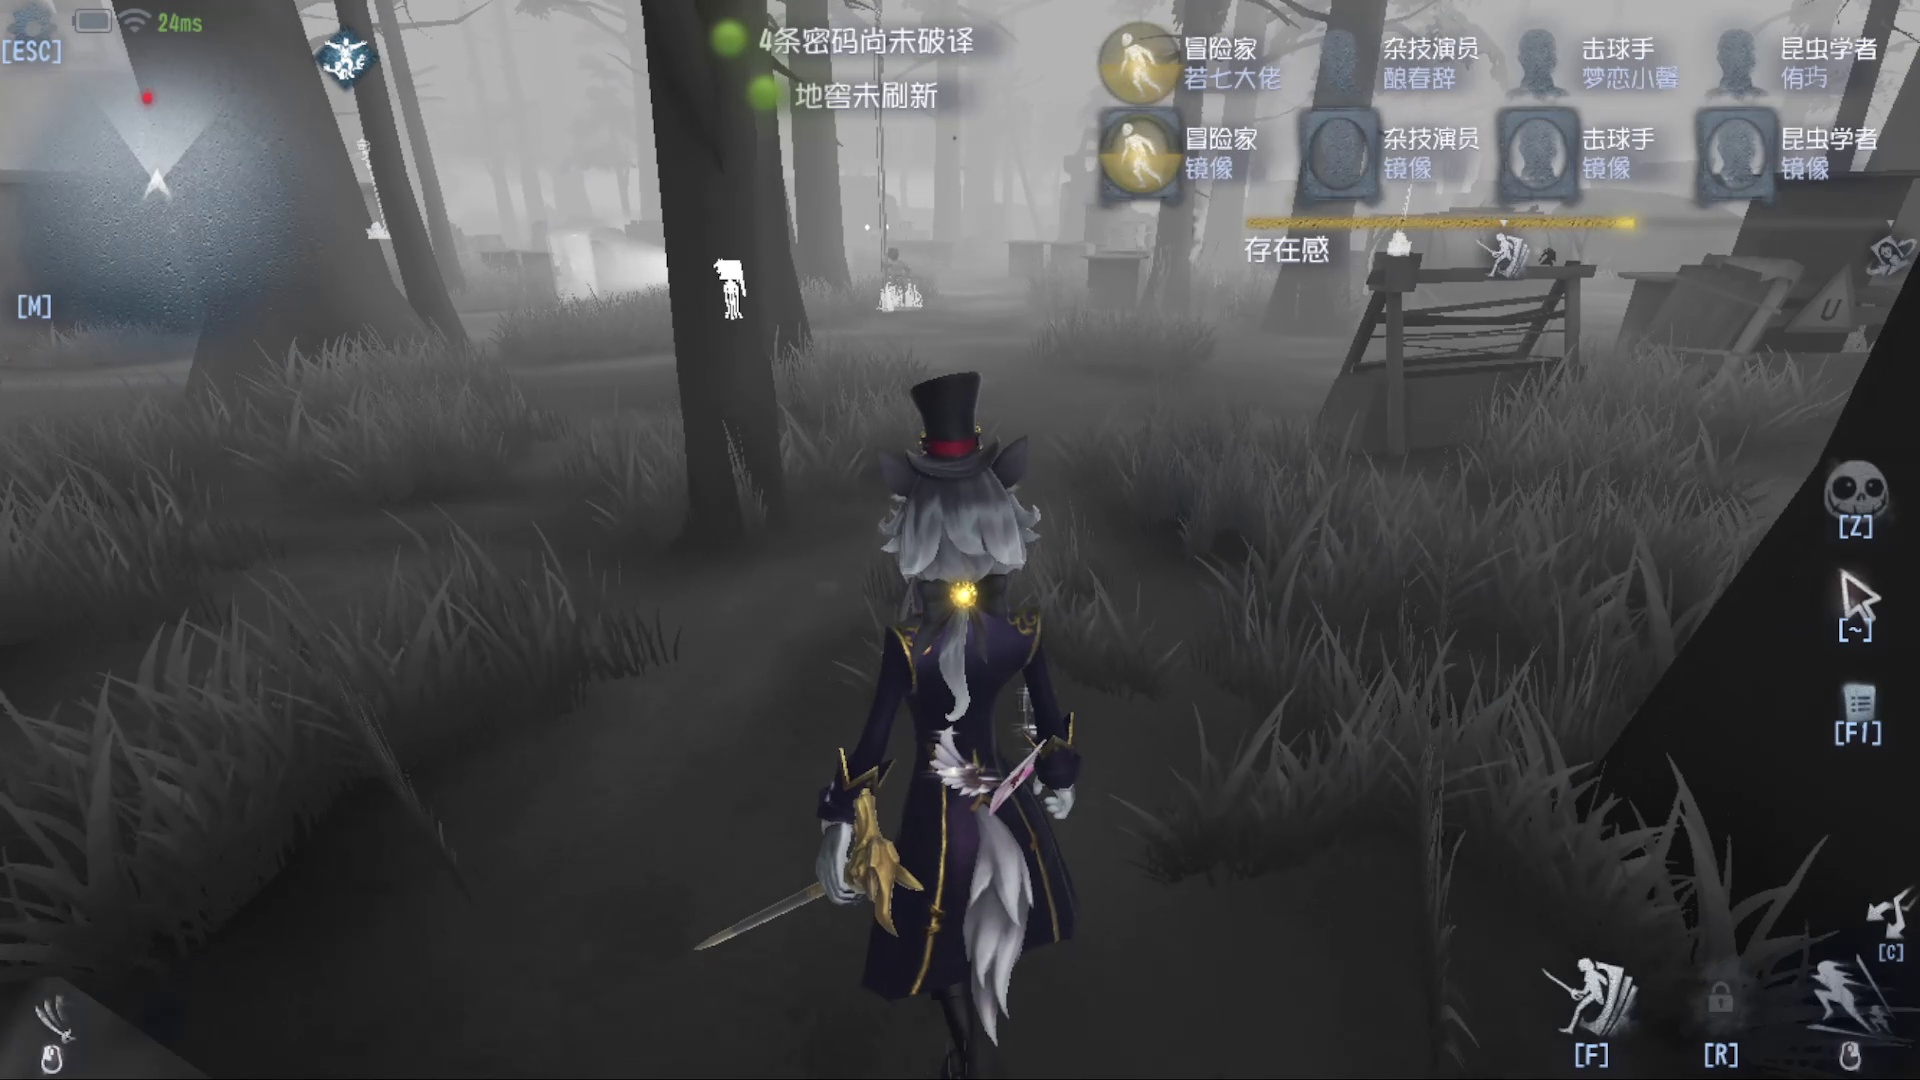求生者: (876, 237, 944, 328)
